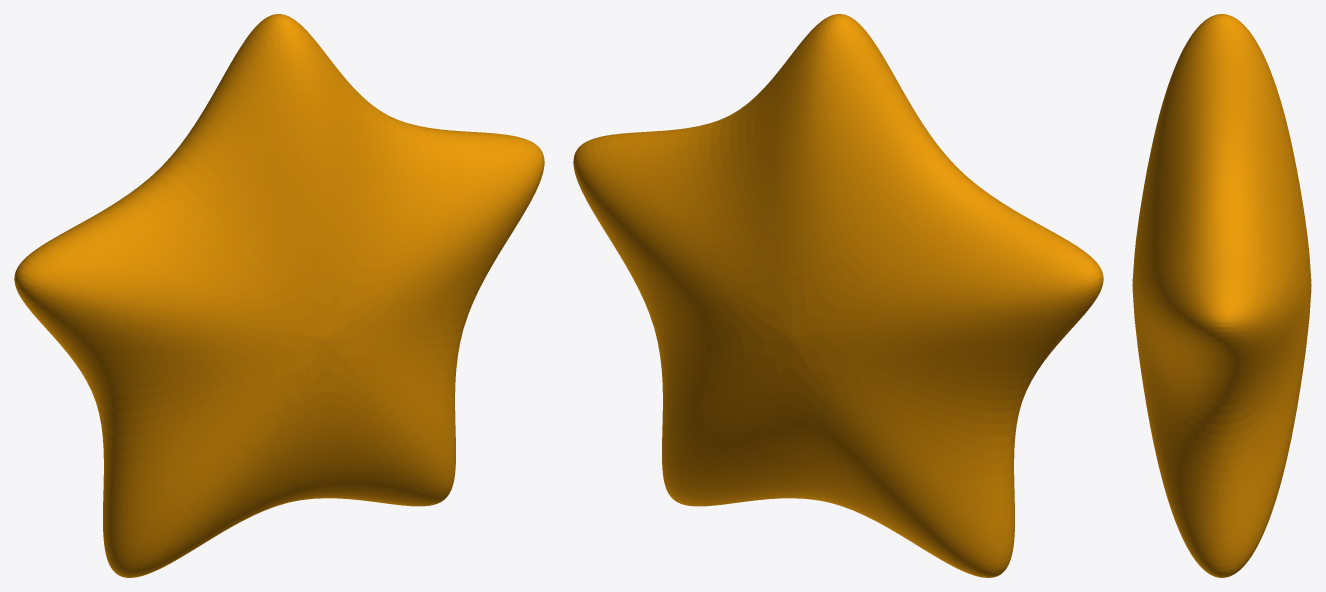
The model's file is star.glb.
The picture shows the model from 3 angles, left to right: view 1: azimuth 30°, elevation 25°; view 2: azimuth 150°, elevation 25°; view 3: azimuth 270°, elevation 25°; orthographic projection. The views are drawn at different scales.
Parts seen in each view (by area): view 1: Cylinder; view 2: Cylinder; view 3: Cylinder.
Boxes of the visible parts, x1,y1,x2,y2 form: Cylinder: (14, 14, 544, 577); Cylinder: (573, 14, 1103, 577); Cylinder: (1132, 14, 1311, 577).
Size of the model in its own units: 1.42 by 1.36 by 0.4475.
